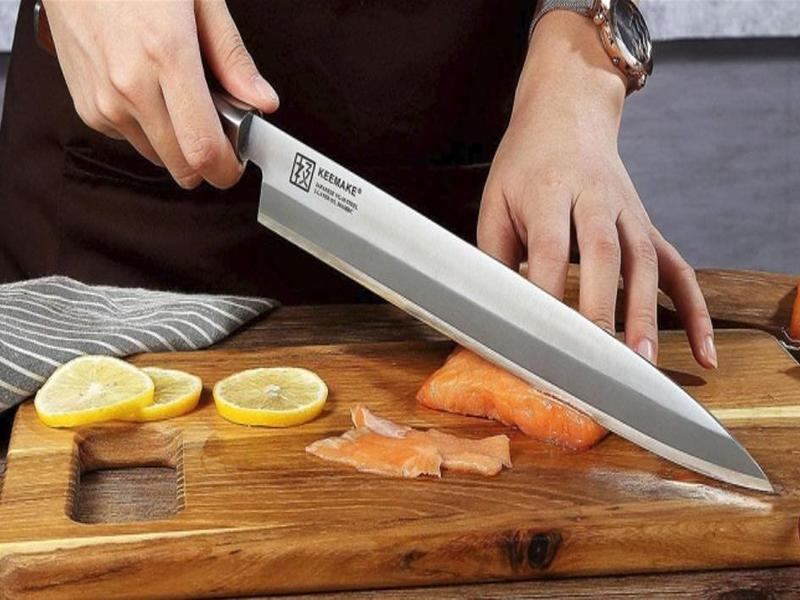KNIFE: (188, 73, 789, 516)
